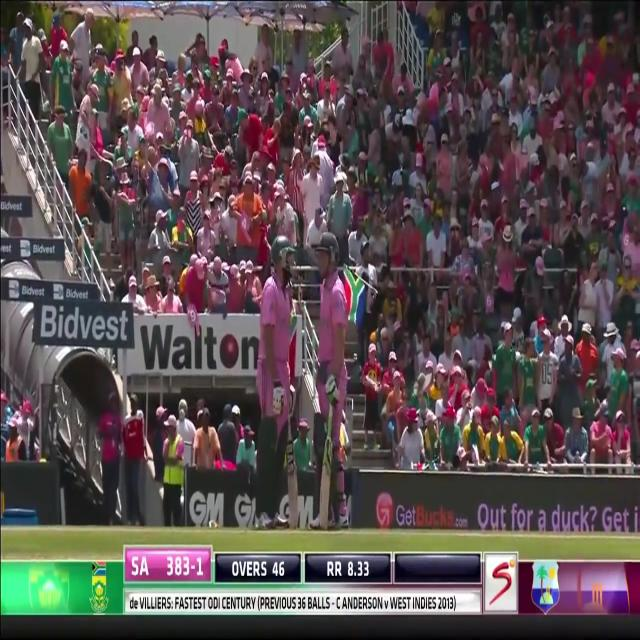Ball: (251, 235, 300, 533), (310, 232, 356, 532)
